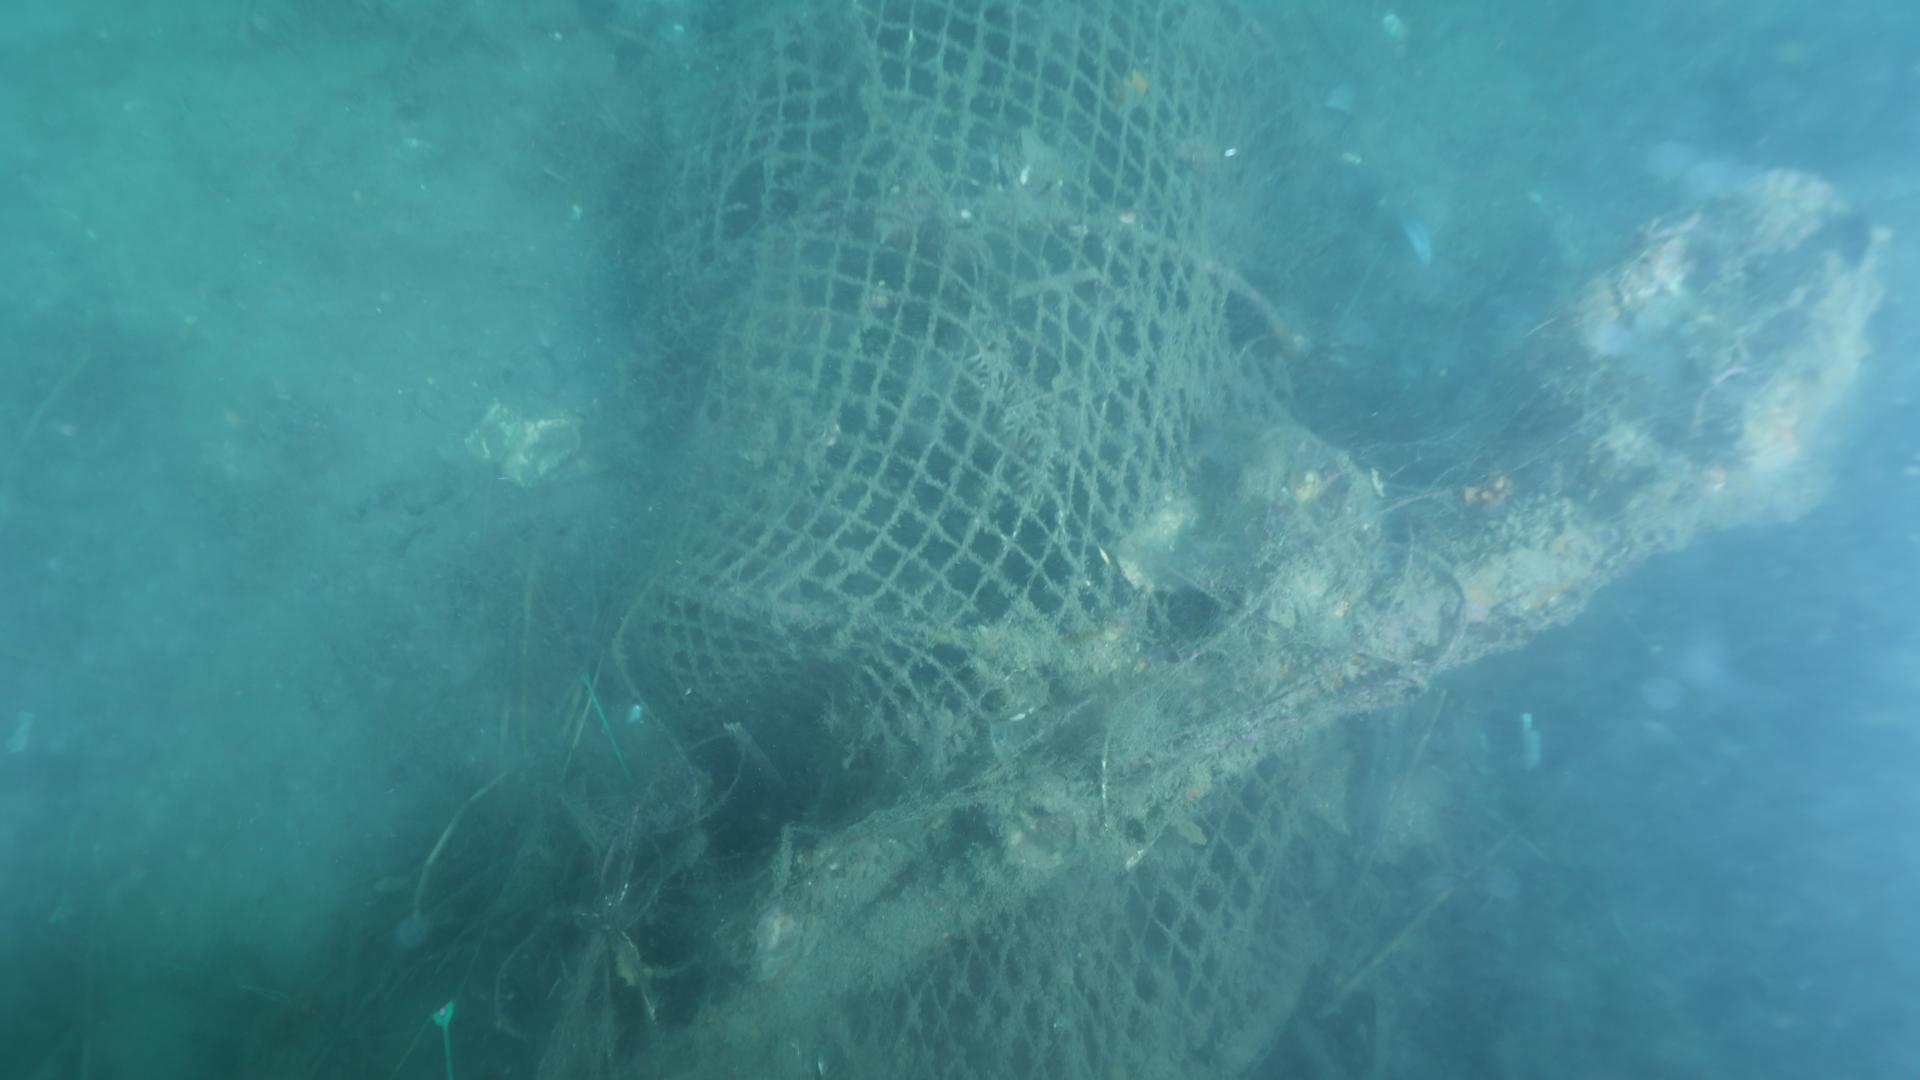spring fish trap: (637, 3, 1303, 1080)
